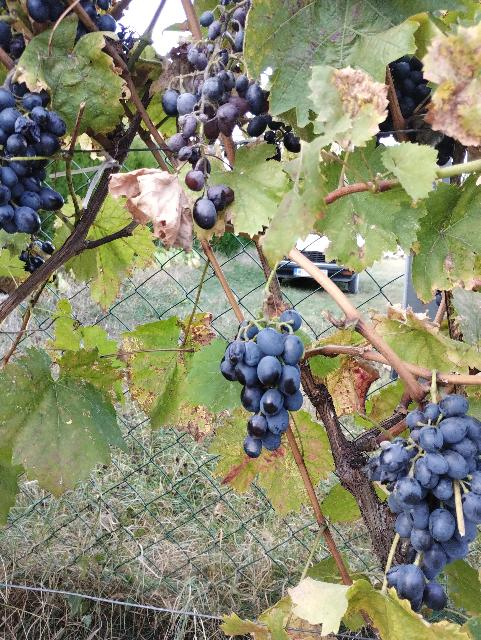grapes: (365, 379, 481, 611), (221, 310, 305, 459), (0, 70, 66, 234)
